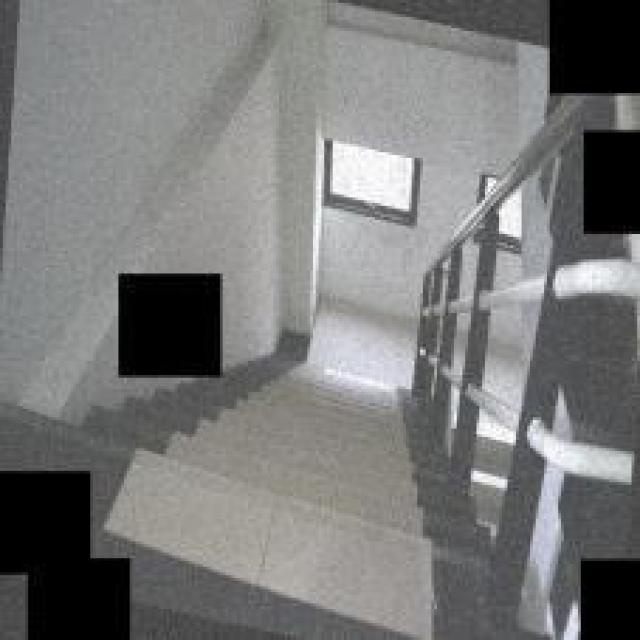downstair: (246, 331, 407, 638)
